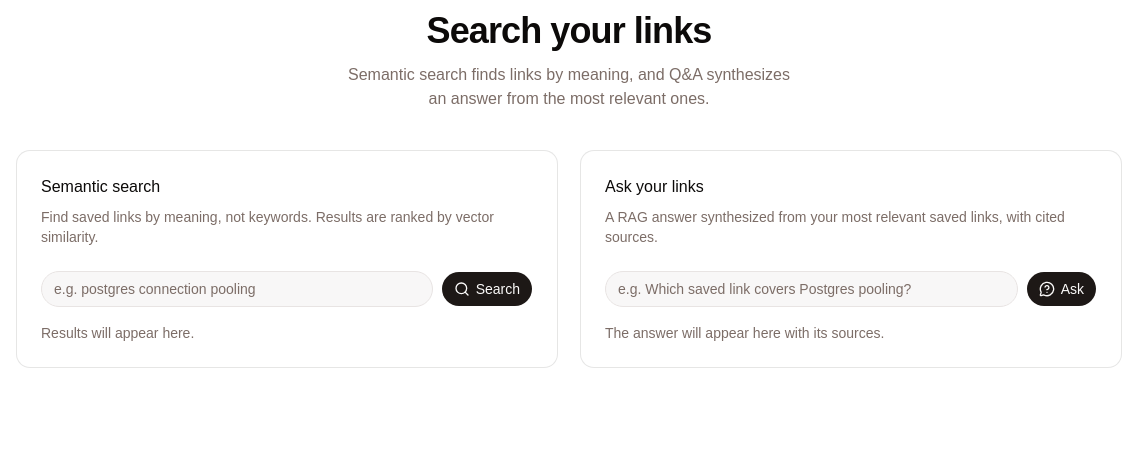
Search › searches and renders ranked hits with scores
Step 1. Type "pooling" into the field named "Search query" → (237, 289), box [41,271,433,307]
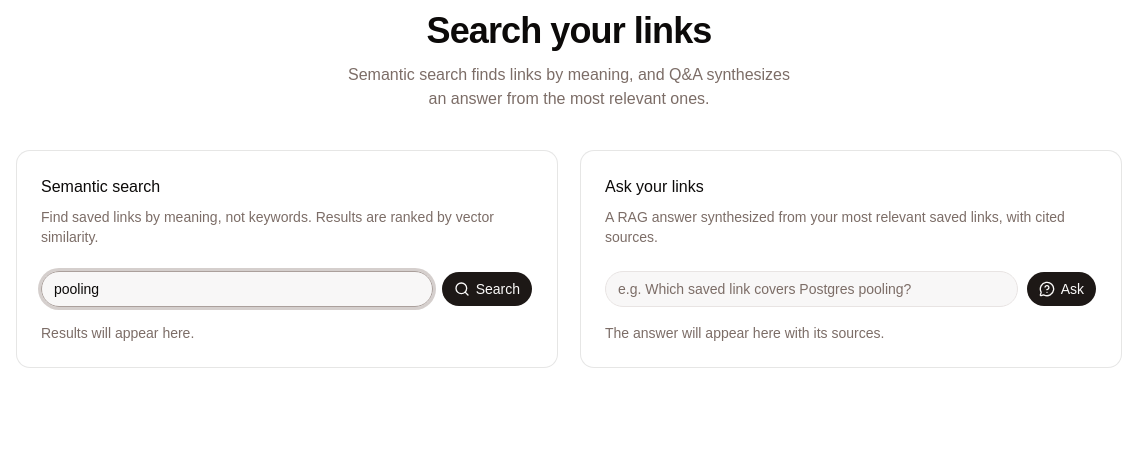
Step 2. Click the button "Search" → (487, 289), box [441,271,533,307]
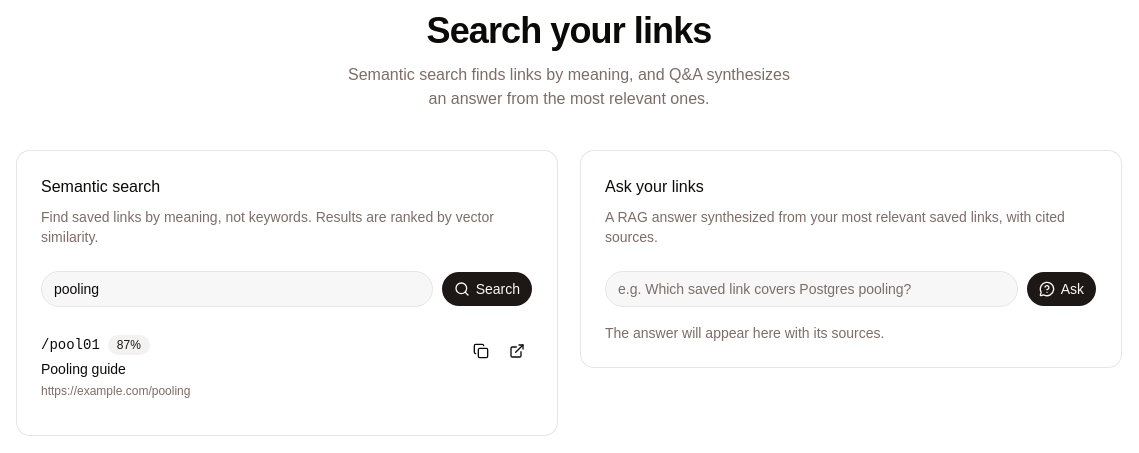
Result: the text "/pool01" is shown at [41,335,100,355]
Result: the text "Pooling guide" is shown at [41,361,126,377]
Result: the icon named "Relevance 87 percent" is shown at [108,335,150,355]
